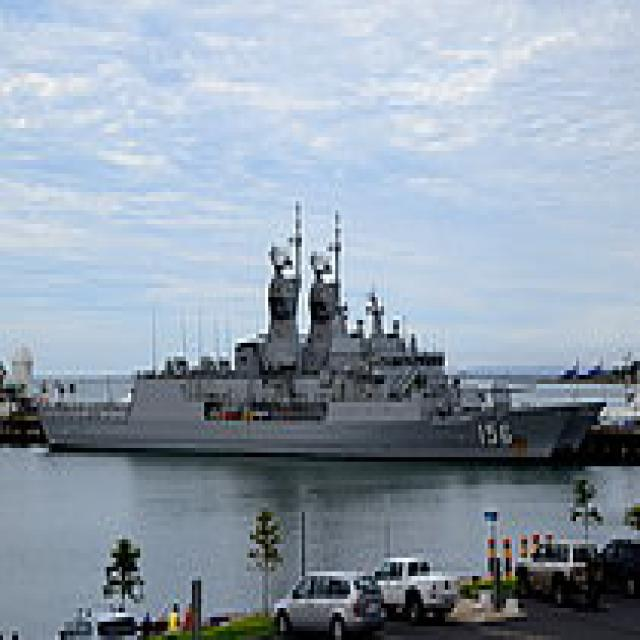Warship: (33, 192, 573, 462), (280, 178, 610, 462)
